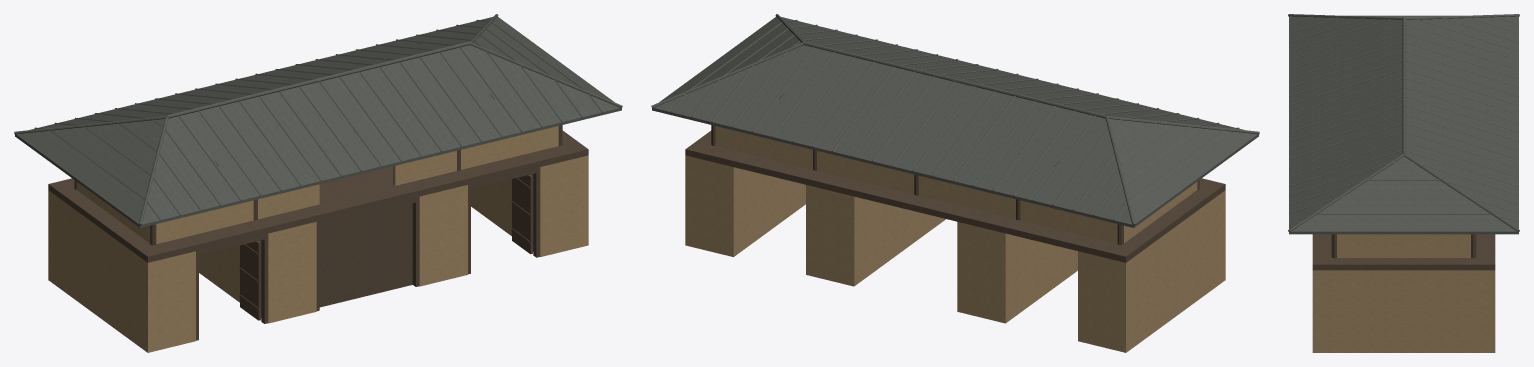
File: pingcheng-P-LOD1.glb
3 views of the same model, side by side, from view 1: azimuth 30°, elevation 25°; view 2: azimuth 150°, elevation 25°; view 3: azimuth 270°, elevation 25° (orthographic). The views are drawn at different scales.
Visible parts, largest first — view 1: pingcheng-P-static_tile, pingcheng-P-static_earth, pingcheng-P-static_timber; view 2: pingcheng-P-static_tile, pingcheng-P-static_earth, pingcheng-P-static_timber; view 3: pingcheng-P-static_tile, pingcheng-P-static_earth, pingcheng-P-static_timber.
Boxes of the visible parts, x1,y1,x2,y2 form: pingcheng-P-static_tile: (14, 14, 622, 227); pingcheng-P-static_earth: (48, 126, 588, 352); pingcheng-P-static_timber: (48, 43, 588, 340); pingcheng-P-static_tile: (651, 14, 1259, 227); pingcheng-P-static_earth: (685, 126, 1225, 352); pingcheng-P-static_timber: (685, 43, 1225, 262); pingcheng-P-static_tile: (1288, 14, 1519, 234); pingcheng-P-static_earth: (1312, 234, 1495, 352); pingcheng-P-static_timber: (1312, 45, 1495, 270).
Bounding box in the file's own units: 28.12 × 10.24 × 12.7.
3 materials, 3 textured.
